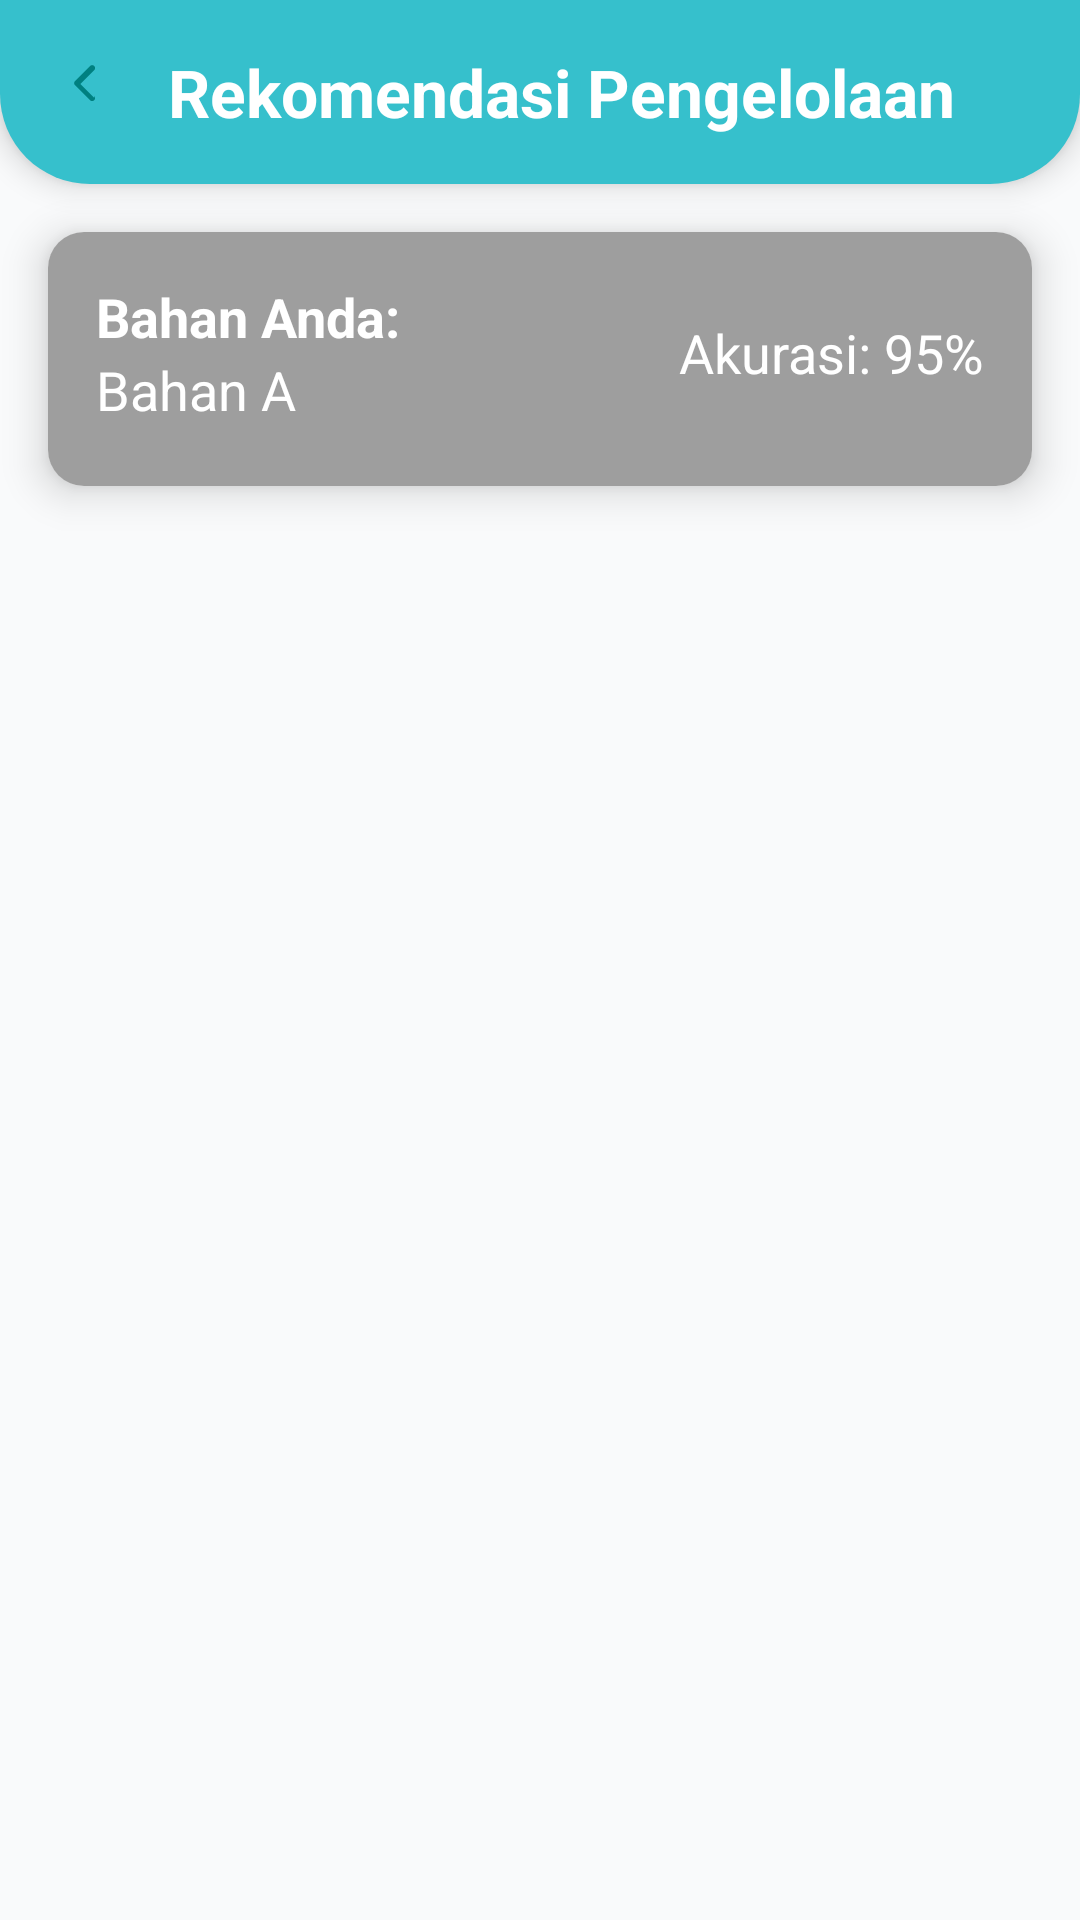

Named icons in this screenshot (1080x1920) and their bounding boxes, (left=x1, top=y1, right=x2, bottom=y2):
Back Icon: (left=74, top=65, right=95, bottom=101)
